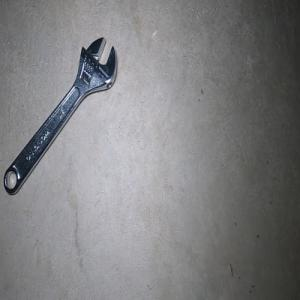Wrench: (3, 36, 116, 194)
